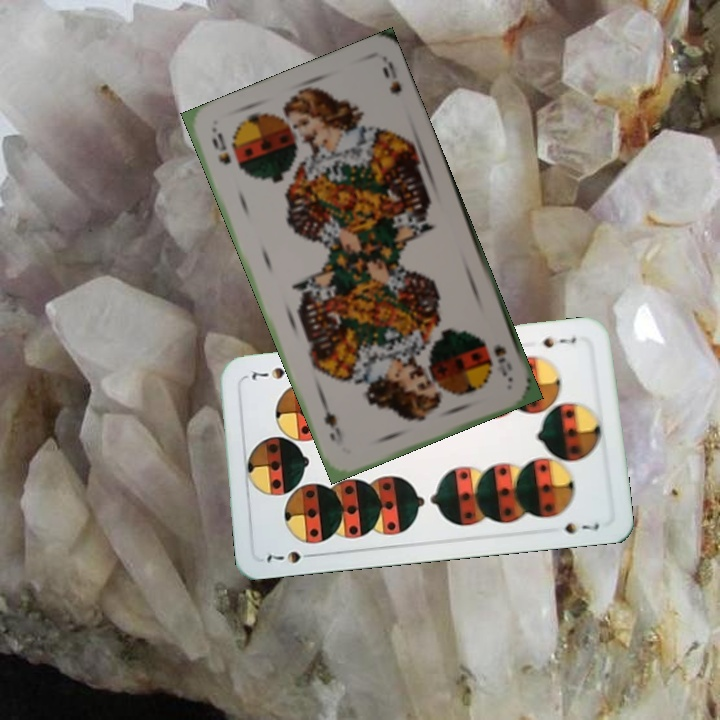S7: (261, 547, 319, 566), (534, 333, 579, 351)
SO: (208, 128, 234, 167), (490, 340, 510, 379)
